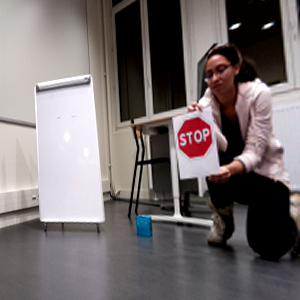big: (34, 77, 106, 227)
small: (136, 214, 153, 236)
